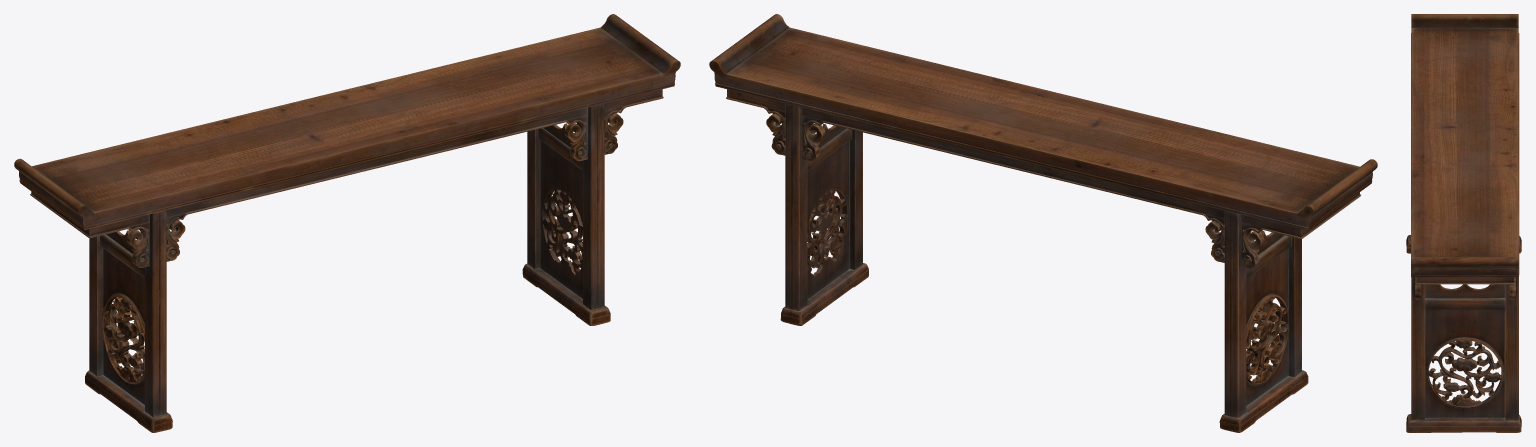
The model's file is chinese_console_table.glb.
The picture shows the model from 3 angles, left to right: view 1: azimuth 30°, elevation 25°; view 2: azimuth 150°, elevation 25°; view 3: azimuth 270°, elevation 25°; orthographic projection. The views are drawn at different scales.
Visible parts, largest first — view 1: chinese_console_table; view 2: chinese_console_table; view 3: chinese_console_table.
Part boxes in pixels (box(x1,y1,x2,y2)): chinese_console_table: box(14, 14, 680, 432); chinese_console_table: box(709, 14, 1377, 432); chinese_console_table: box(1406, 14, 1521, 432).
Size of the model in its own units: 1.72 by 0.6607 by 0.3388.
Materials: 1 (1 with a texture image).
